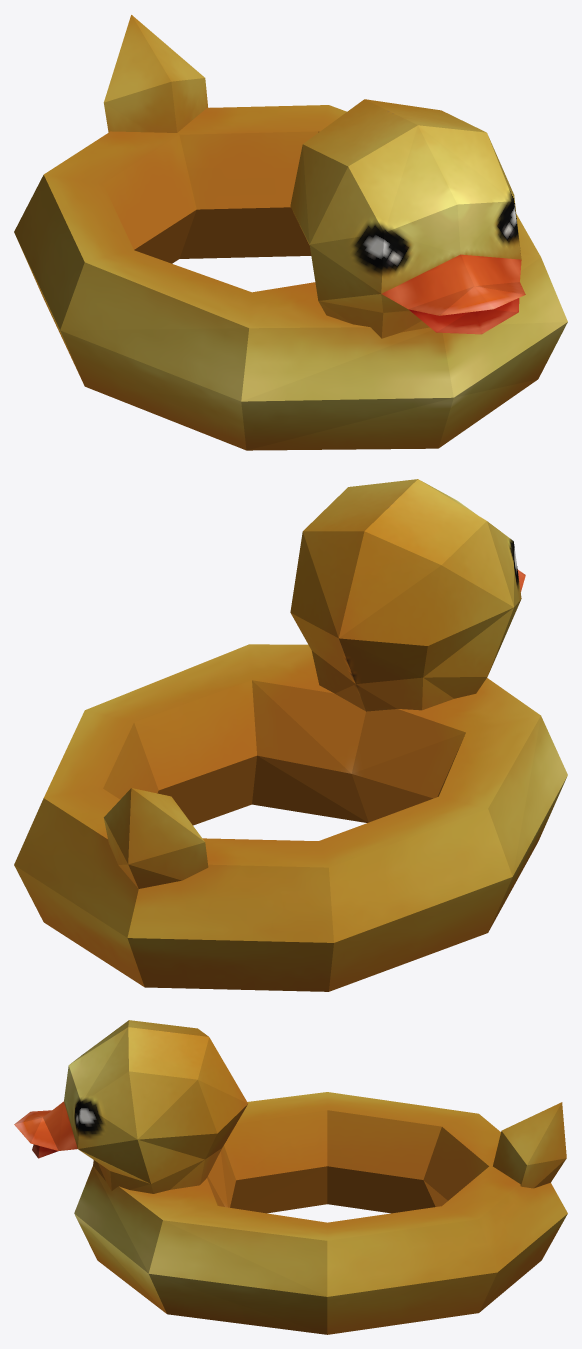
Rendered from Model_Q_YaZi.FBX.
The picture shows the model from 3 angles, top to bottom: view 1: azimuth 30°, elevation 25°; view 2: azimuth 150°, elevation 25°; view 3: azimuth 270°, elevation 25°; orthographic projection. The views are drawn at different scales.
Visible parts, largest first — view 1: ShenLePin_YaZi; view 2: ShenLePin_YaZi; view 3: ShenLePin_YaZi.
Part boxes in pixels (left/top/right/bottom): ShenLePin_YaZi: left=14, top=15, right=567, bottom=450; ShenLePin_YaZi: left=14, top=479, right=567, bottom=991; ShenLePin_YaZi: left=14, top=1020, right=567, bottom=1334.
Size of the model in its own units: 0.9564 by 0.6228 by 1.34.
